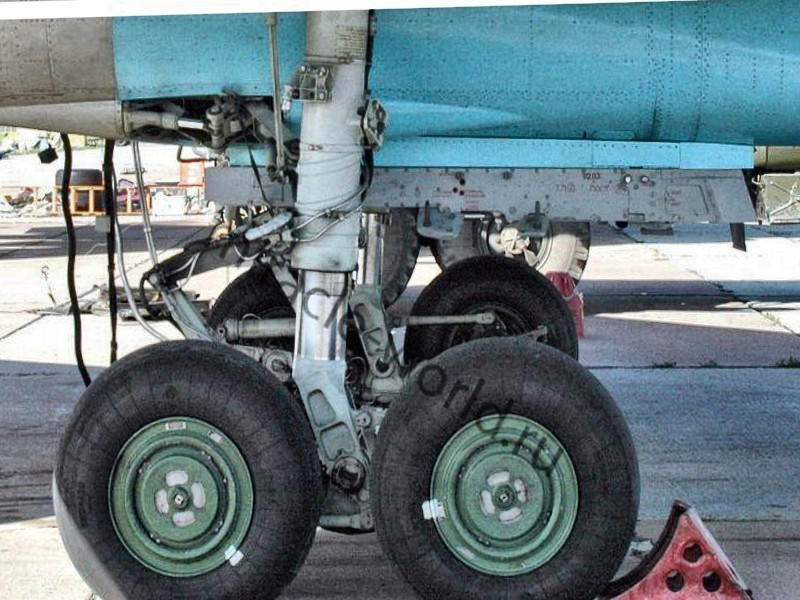chock: (589, 495, 767, 600)
wheel: (46, 332, 328, 600), (369, 329, 646, 600), (401, 253, 580, 368), (199, 261, 302, 354)
